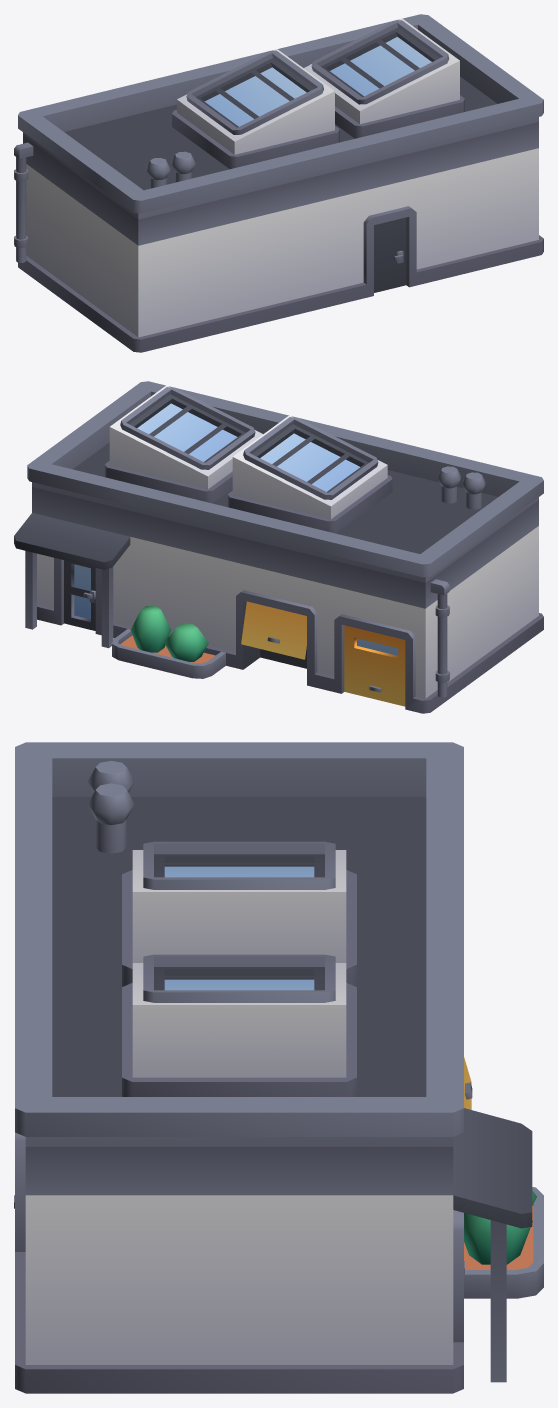
File: kenney-industrial_building-p.glb
The picture shows the model from 3 angles, top to bottom: view 1: azimuth 30°, elevation 25°; view 2: azimuth 150°, elevation 25°; view 3: azimuth 270°, elevation 25°; orthographic projection. The views are drawn at different scales.
Visible parts, largest first — view 1: building-p; view 2: building-p; view 3: building-p.
Part boxes in pixels (x1,y1,x2,y2): building-p: (14, 14, 543, 352); building-p: (14, 381, 543, 713); building-p: (14, 742, 543, 1393).
Size of the model in its own units: 1.68 by 0.7146 by 0.992.
2 materials, 2 textured.
